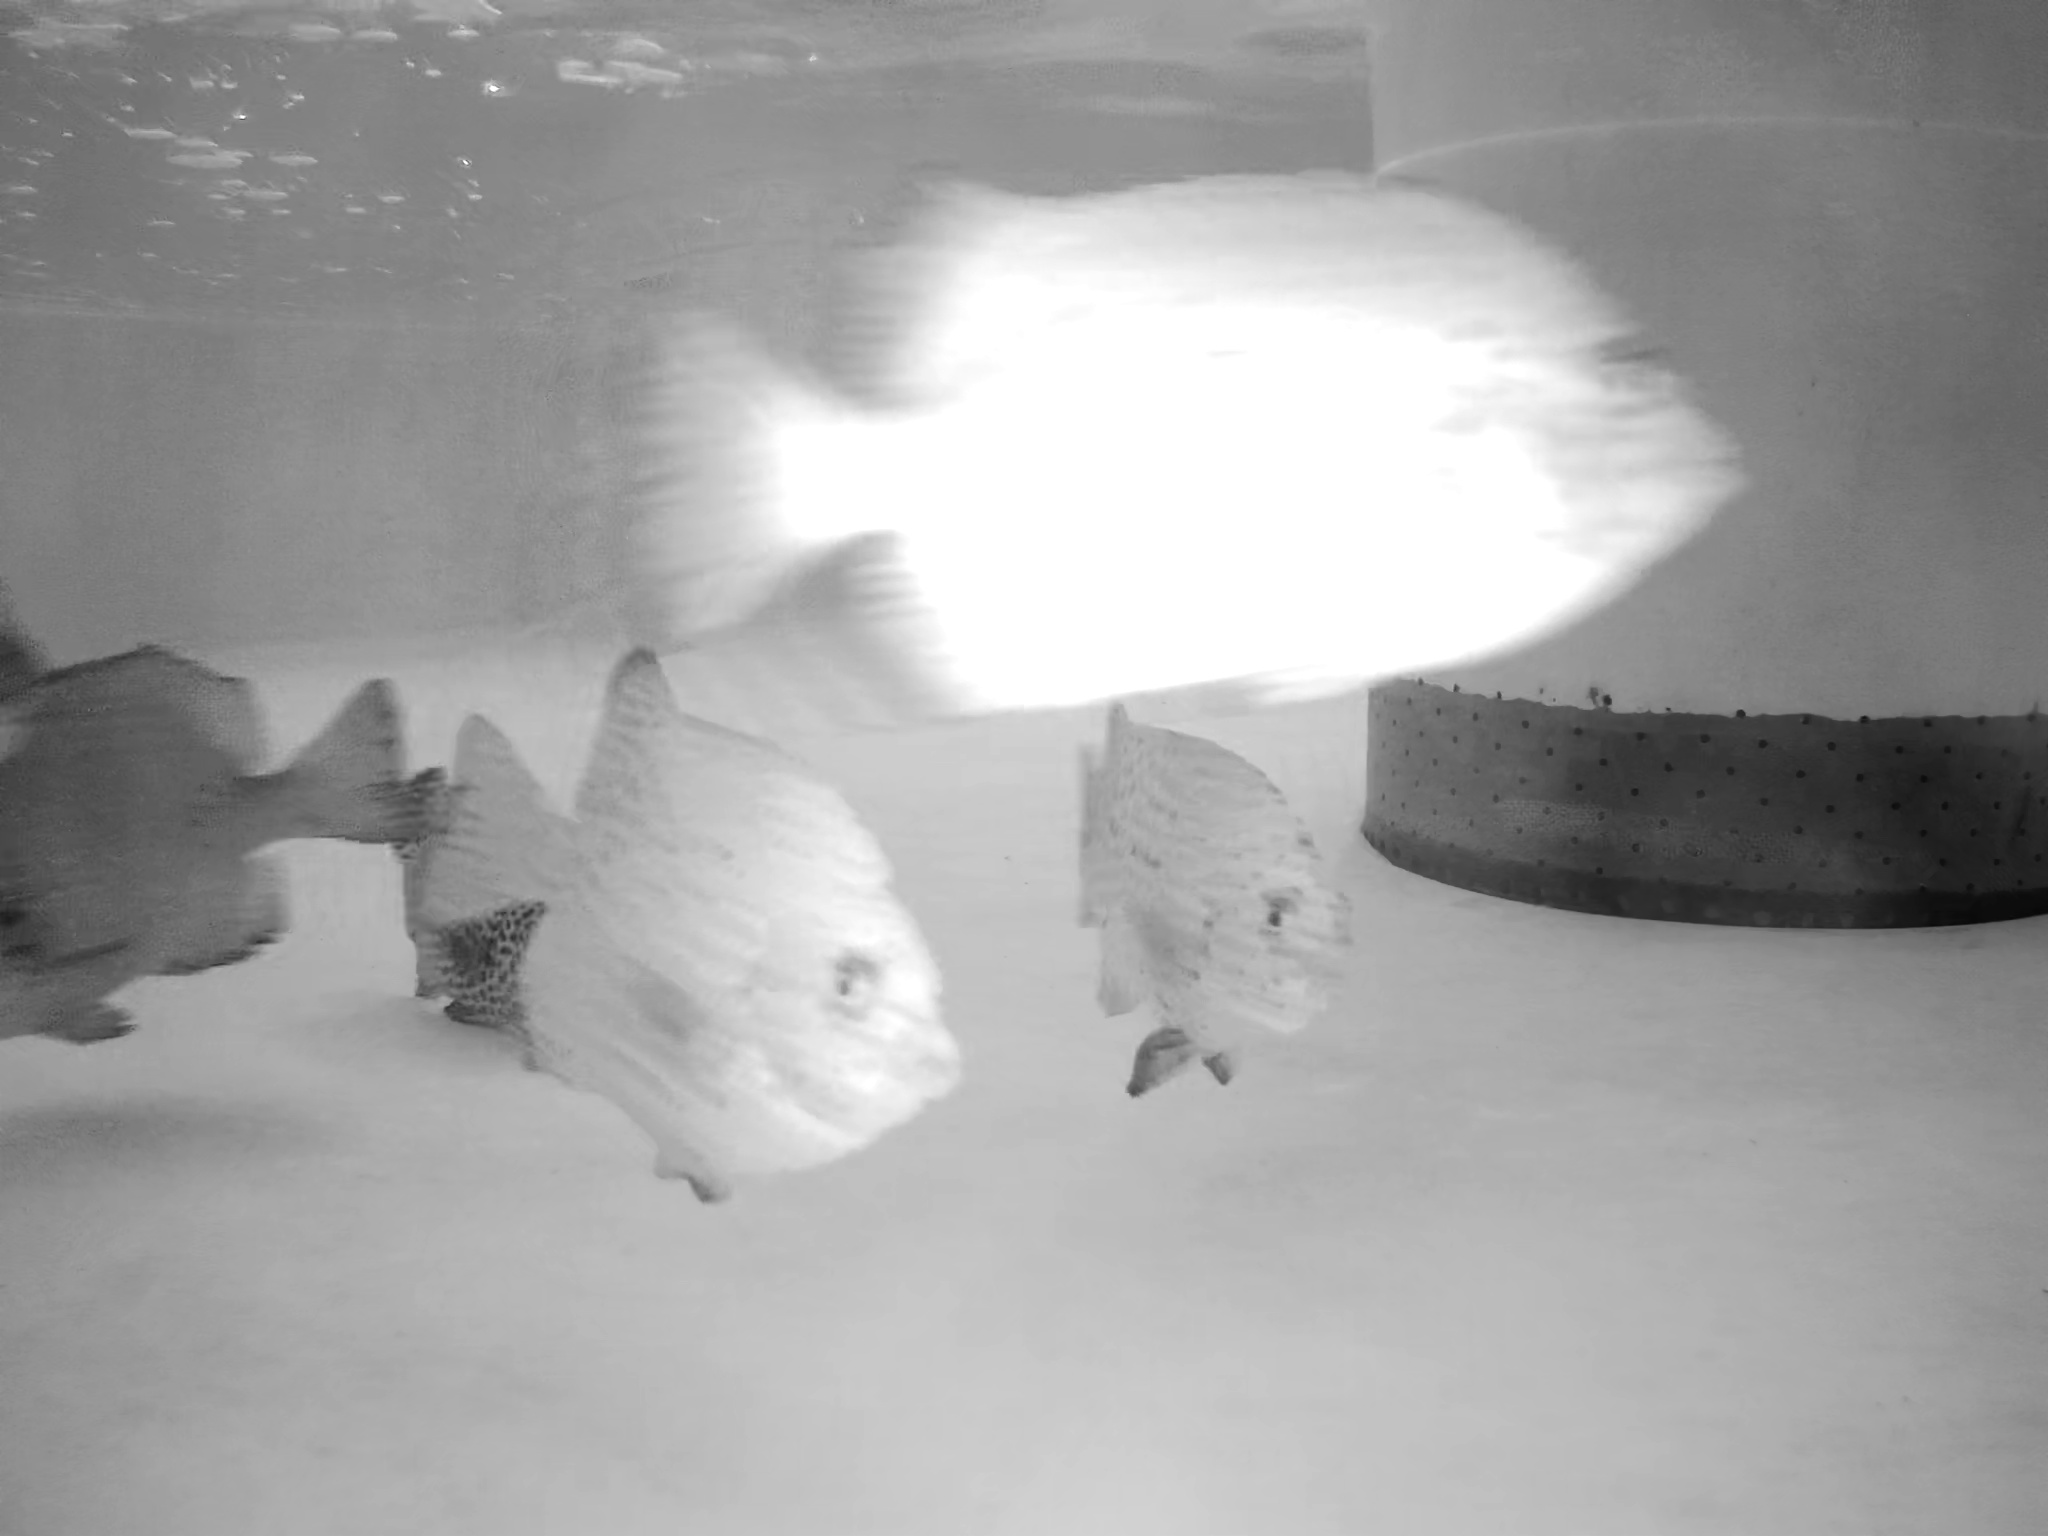fish: (605, 155, 1742, 708), (426, 658, 963, 1196), (5, 637, 405, 945), (1064, 699, 1355, 1083), (2, 741, 269, 1073), (369, 763, 582, 1050)
